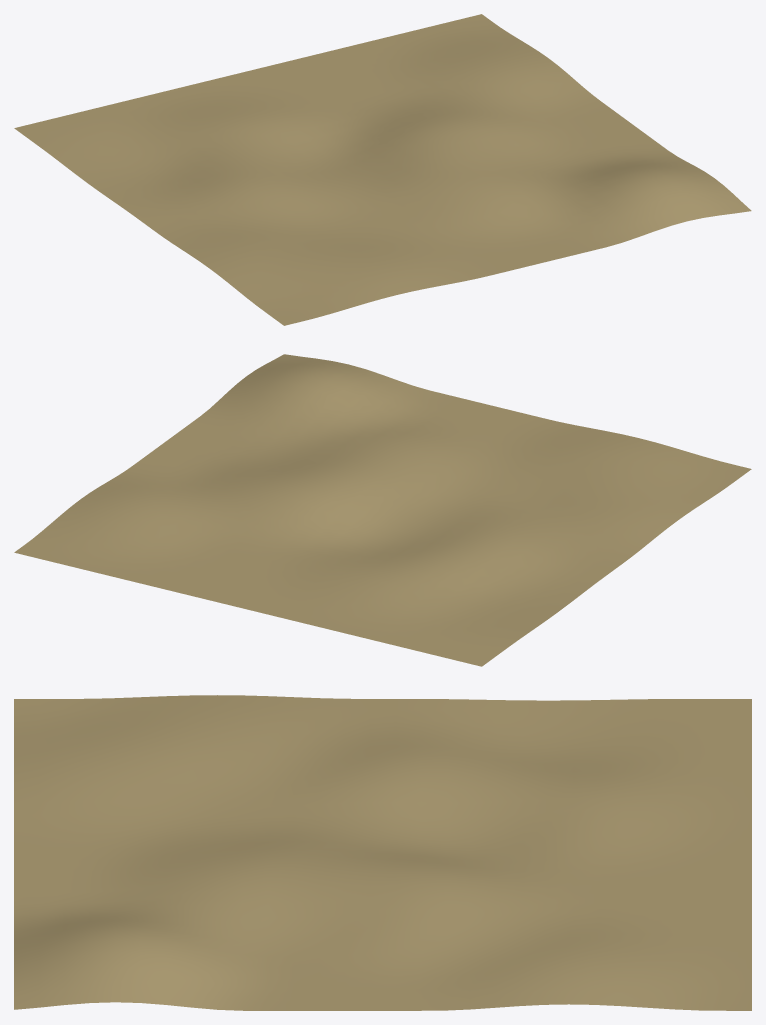
Rendered from sand.fbx.
3 views of the same model, one above another, from view 1: azimuth 30°, elevation 25°; view 2: azimuth 150°, elevation 25°; view 3: azimuth 270°, elevation 25° (orthographic). The views are drawn at different scales.
Parts seen in each view (by area): view 1: strand1; view 2: strand1; view 3: strand1.
Part boxes in pixels (x1,y1,x2,y2): strand1: (14, 14, 751, 325); strand1: (14, 354, 751, 666); strand1: (14, 695, 751, 1010).
Size of the model in its own units: 15000 by 722 by 15000.
